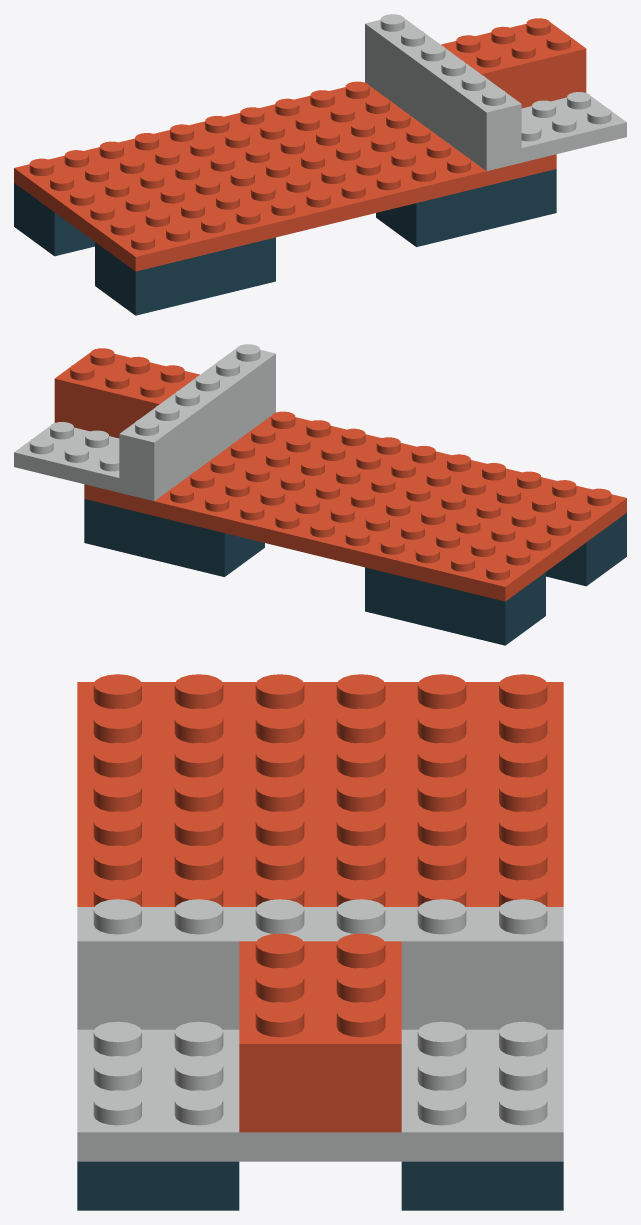
The model's file is LegoShip_2.dae.
3 views of the same model, one above another, from view 1: azimuth 30°, elevation 25°; view 2: azimuth 150°, elevation 25°; view 3: azimuth 270°, elevation 25° (orthographic). The views are drawn at different scales.
Parts seen in each view (by area): view 1: Untitled_004, Untitled_006, Untitled_001, Untitled_007, Untitled_005, Untitled_003, Untitled_002; view 2: Untitled_004, Untitled_006, Untitled_002, Untitled_007, Untitled_005, Untitled, Untitled_001; view 3: Untitled_004, Untitled_005, Untitled_006, Untitled_007, Untitled, Untitled_003.
Part boxes in pixels (x1,y1,x2,y2): Untitled_004: (14, 81, 556, 271); Untitled_006: (365, 14, 521, 156); Untitled_001: (95, 237, 275, 315); Untitled_007: (441, 18, 586, 108); Untitled_005: (365, 68, 626, 171); Untitled_003: (376, 169, 556, 246); Untitled_002: (14, 183, 94, 256); Untitled_004: (84, 411, 626, 601); Untitled_006: (119, 344, 275, 486); Untitled_002: (365, 567, 545, 645); Untitled_007: (54, 348, 199, 438); Untitled_005: (14, 398, 275, 501); Untitled: (84, 499, 264, 576); Untitled_001: (546, 513, 626, 586); Untitled_004: (77, 674, 563, 906); Untitled_005: (77, 1021, 563, 1161); Untitled_006: (77, 899, 563, 1029); Untitled_007: (239, 933, 401, 1132); Untitled: (401, 1161, 563, 1210); Untitled_003: (77, 1161, 239, 1210).
Bounding box in the file's own units: 0.112 × 0.048 × 0.0272.
